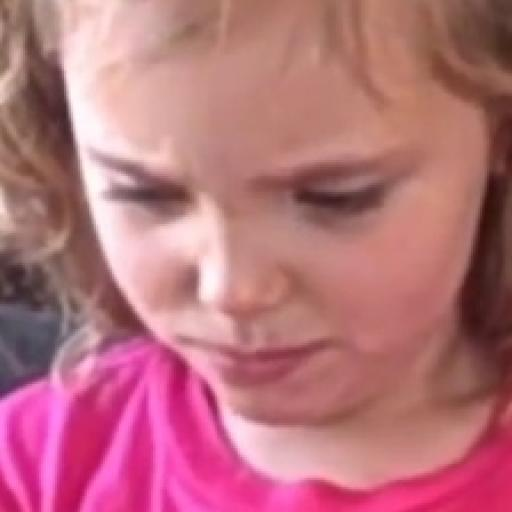Autism: (34, 2, 512, 471)
